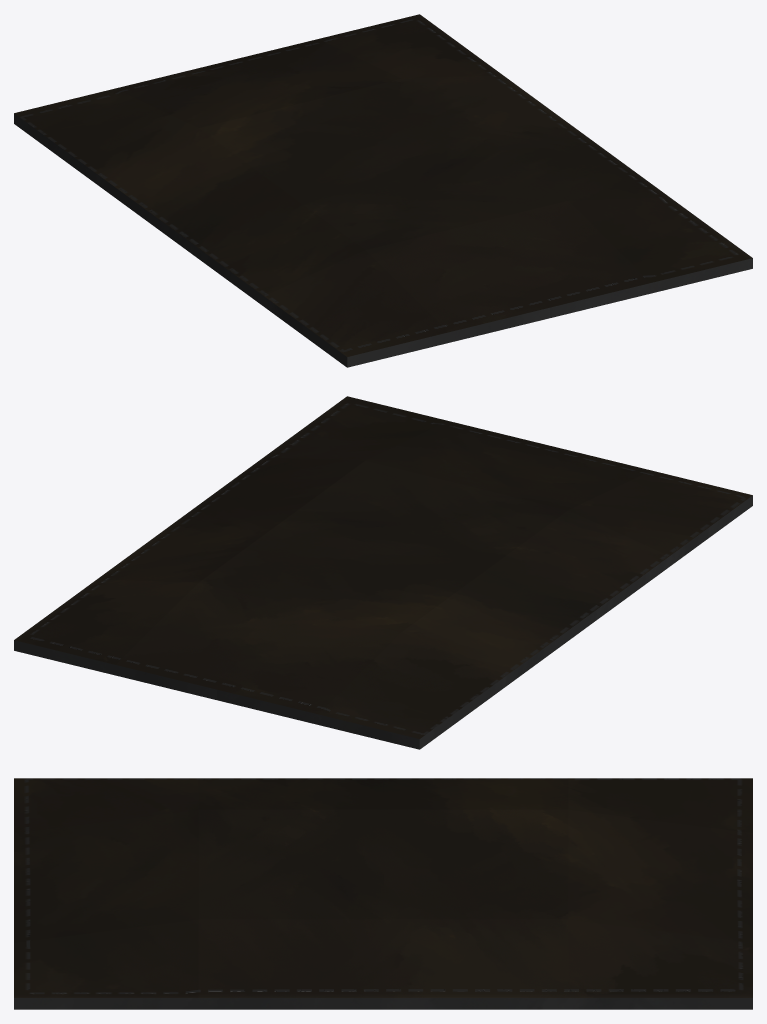
Rendered from SM_Roof_LavaRoom.fbx.
3 views of the same model, one above another, from view 1: azimuth 30°, elevation 25°; view 2: azimuth 150°, elevation 25°; view 3: azimuth 270°, elevation 25° (orthographic). The views are drawn at different scales.
Visible parts, largest first — view 1: Floor.001; view 2: Floor.001; view 3: Floor.001.
Part boxes in pixels (box(x1,y1,x2,y2)): Floor.001: box(14, 14, 752, 367); Floor.001: box(14, 396, 752, 749); Floor.001: box(14, 778, 752, 1009).
Size of the model in its own units: 9.83 by 0.7369 by 13.97.
